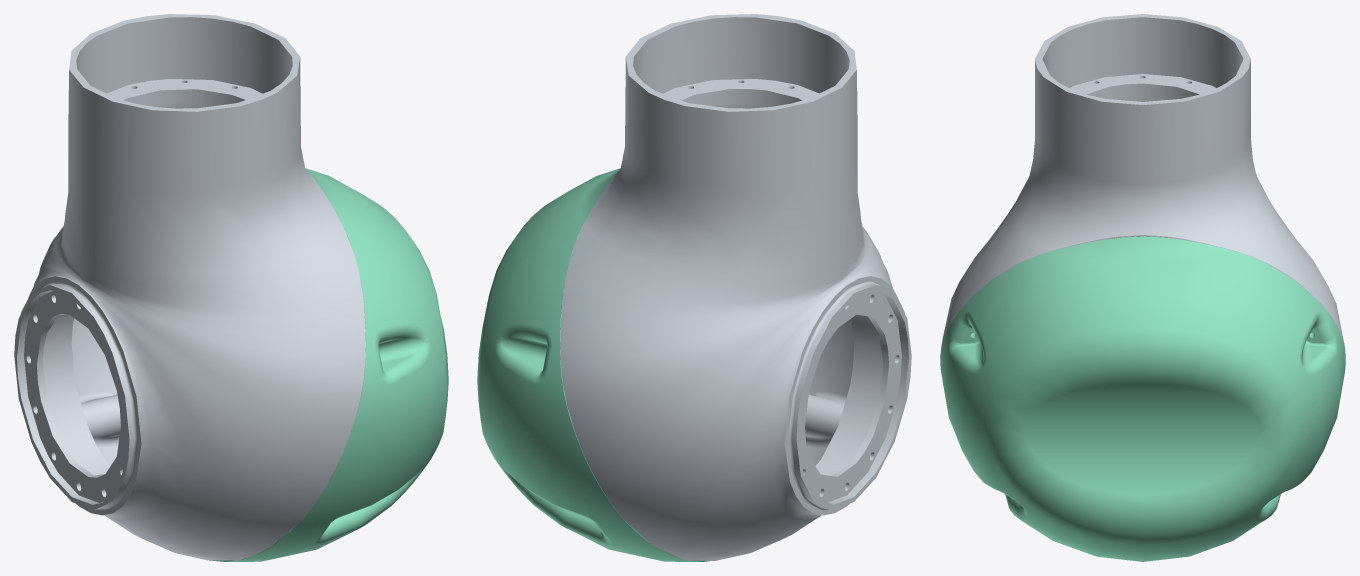
File: coro_7_link6.dae
3 views of the same model, side by side, from view 1: azimuth 30°, elevation 25°; view 2: azimuth 150°, elevation 25°; view 3: azimuth 270°, elevation 25° (orthographic). The views are drawn at different scales.
Visible parts, largest first — view 1: __014; view 2: __014; view 3: __014.
Part boxes in pixels (bbox=[...]): __014: bbox=[14, 14, 448, 561]; __014: bbox=[477, 14, 911, 561]; __014: bbox=[940, 14, 1345, 561].
Bounding box in the file's own units: 0.1397 × 0.1616 × 0.2006.
